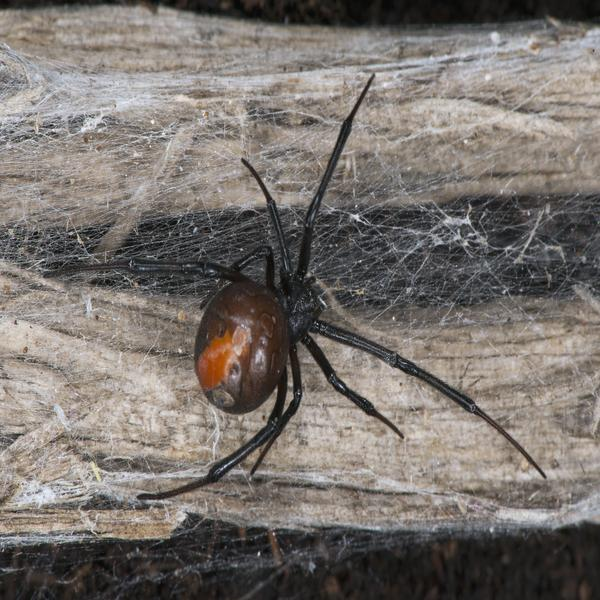Redback Spider: (91, 85, 531, 494)
